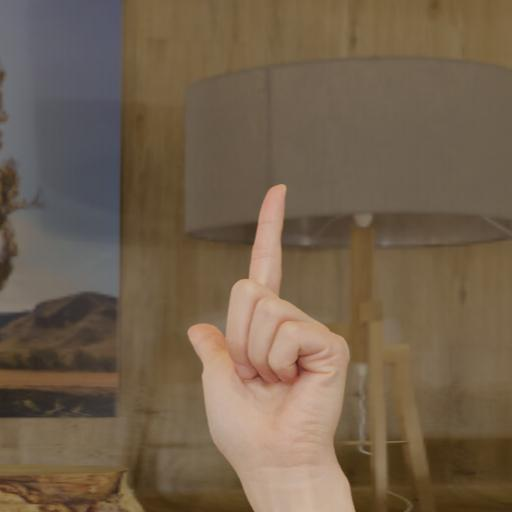L: (179, 167, 371, 511)
